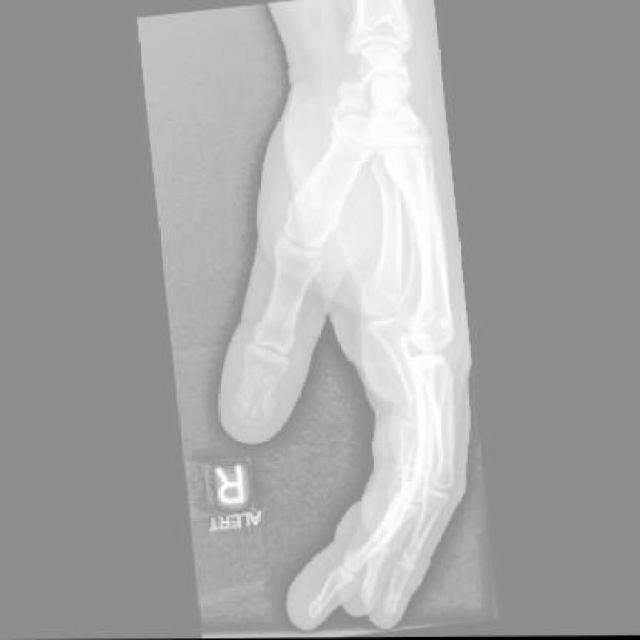Fracture: (228, 365, 288, 433)
